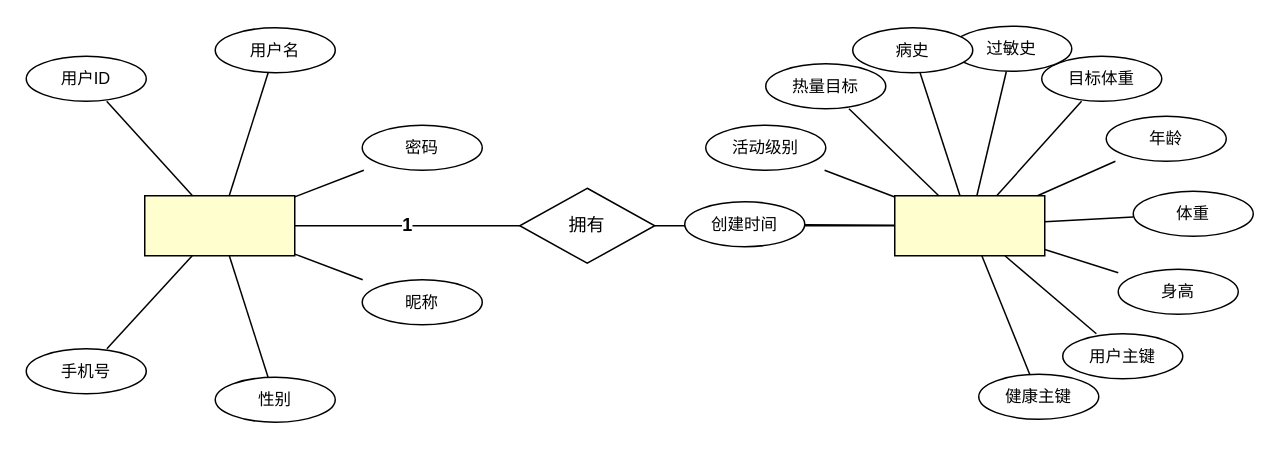
Some shapes in this 1280 by 449 pixel diagram are drawn without their labels. Each missing label, with the centre of its shape:
"健康档案" goes at point 969,225.
"用户" goes at point 219,225.
